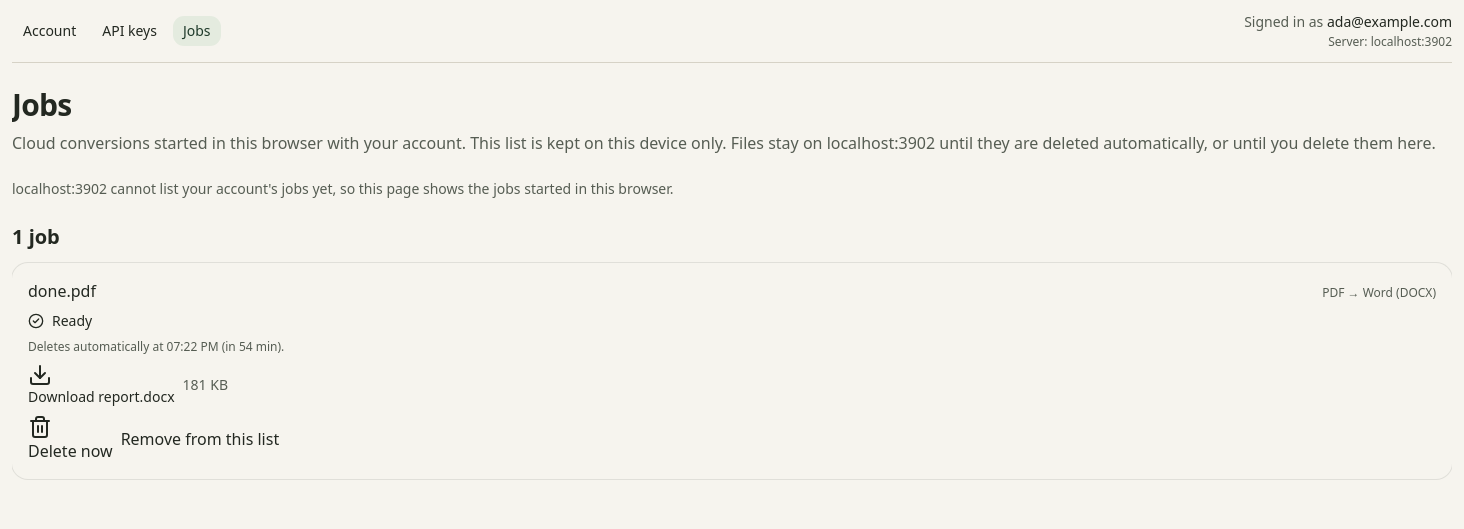
Scenario: jobs page › explains a refused download
Click the button "Download report.docx".
click(101, 385)  # box [28, 363, 174, 407]
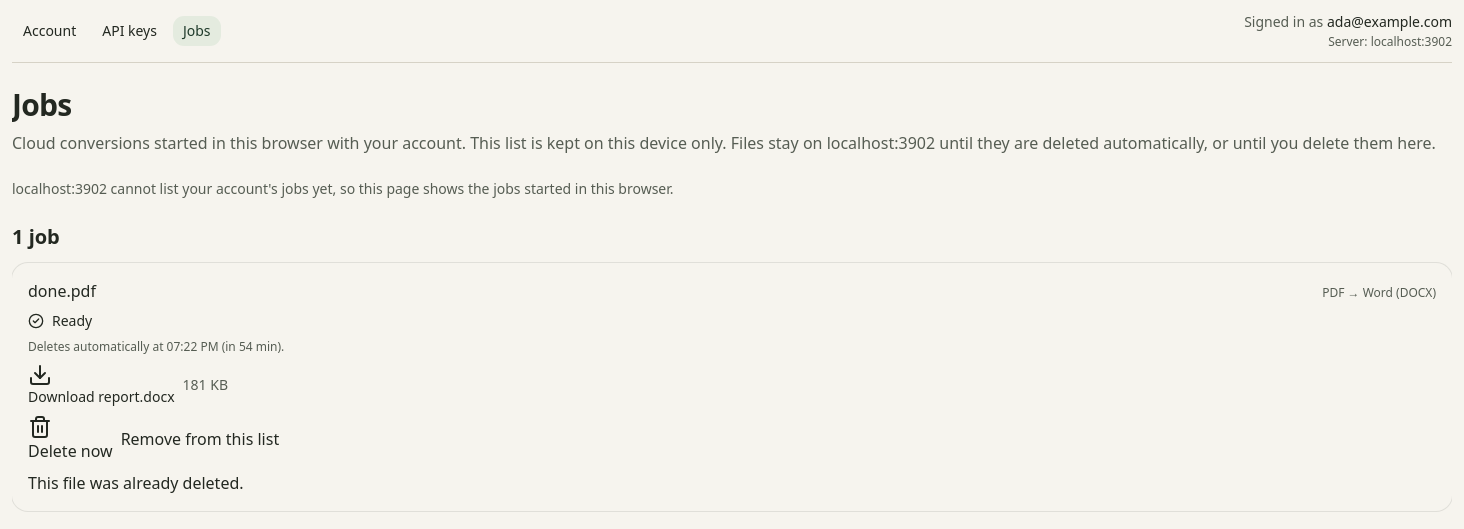
expect the message reads "This file was already deleted.": met, box [28, 472, 244, 494]
